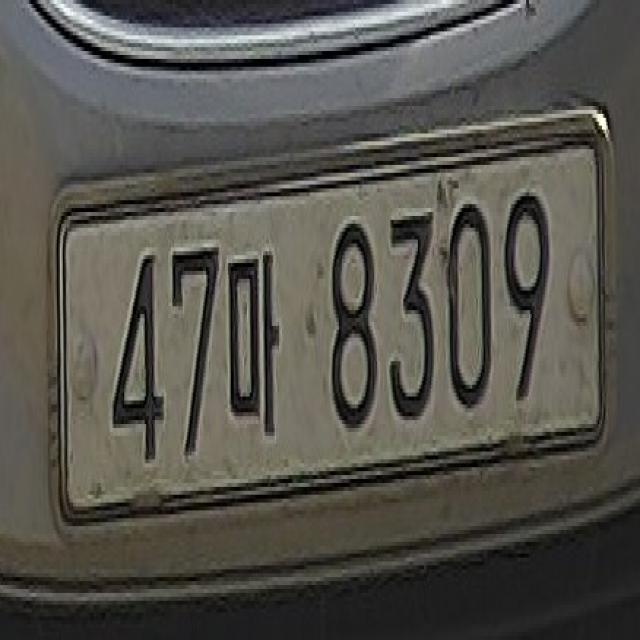0: (446, 194, 497, 414)
3: (386, 200, 439, 437)
4: (106, 243, 166, 484)
7: (168, 238, 222, 483)
8: (326, 212, 381, 450)
9: (502, 186, 554, 414)
license_plate: (42, 81, 619, 558)
ma: (224, 244, 291, 474)
